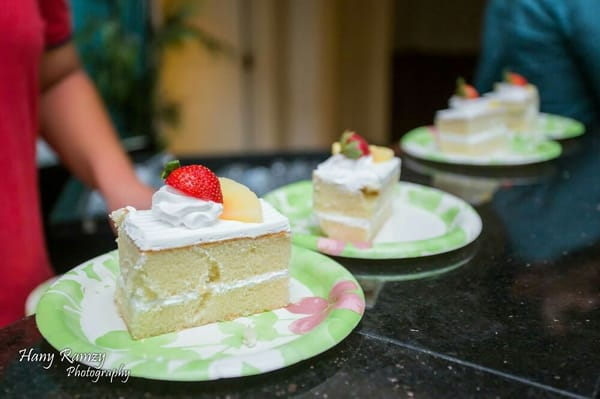curry: (2, 152, 600, 393)
sushi: (109, 165, 294, 342), (311, 130, 401, 251), (432, 72, 550, 158)
